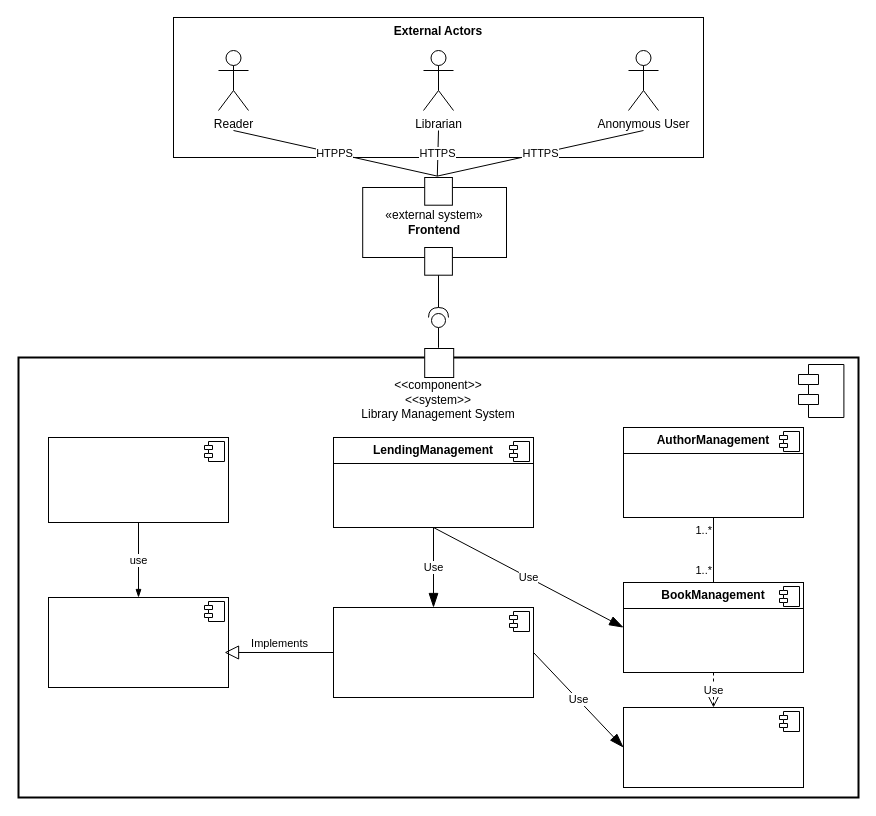
This 876x816 diagram has some shape labels left out. The centre of each missing label's shape, as x and y in pixels:
Auth: the point at 138,479
GenreManagment: the point at 713,747
Reader Management: the point at 433,652
REST API (provided interface): the point at 438,317
UserManagement: the point at 138,642
